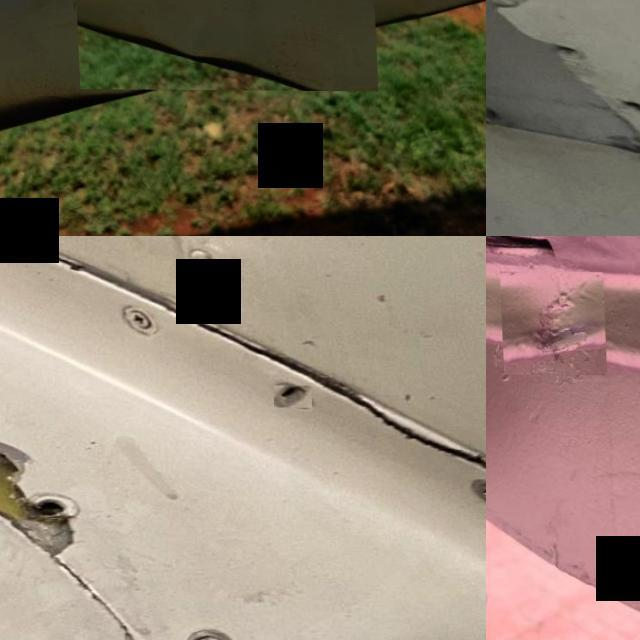Crack: (0, 381, 105, 567), (317, 382, 486, 471)
Dent: (66, 0, 374, 90), (497, 271, 604, 375)
Missing_Fastener: (270, 386, 310, 408)
